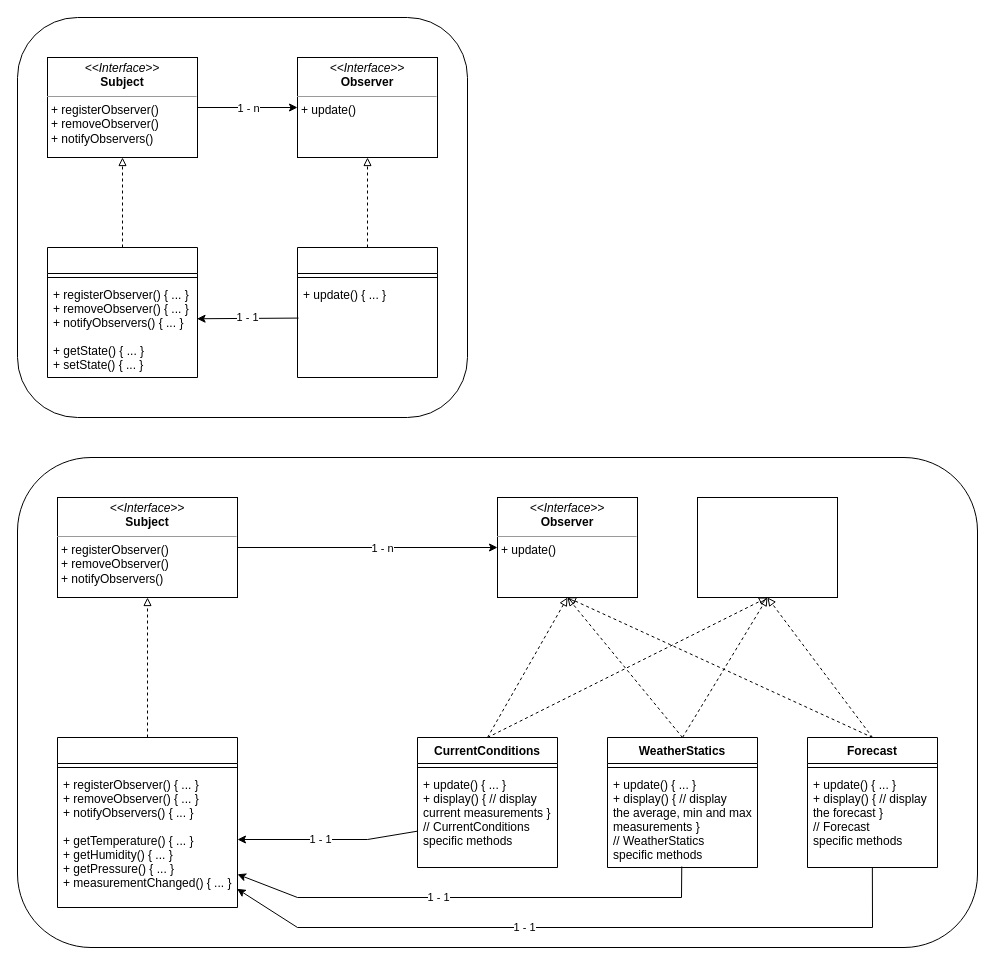
Some shapes in this 995 by 965 pixel diagram are drawn without their labels. The shapes that lost their labels are listed below. From the top down, each one's box as (x1, y1, x2, y2) in pixels, then its label:
(46, 246, 198, 378): ConcreteSubject
(296, 246, 438, 378): ConcreteObserver
(696, 496, 838, 598): <<Interface>> DisplayElement + display()
(56, 736, 238, 908): WeatherData
